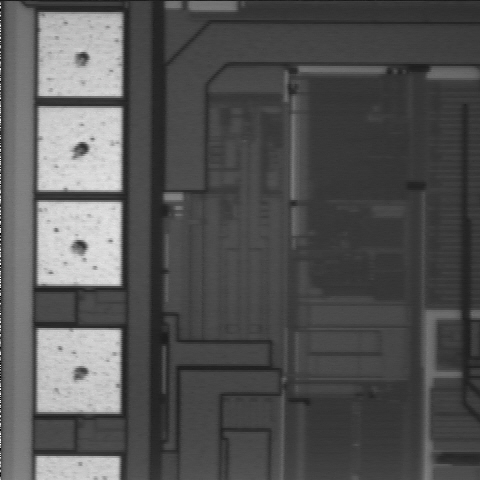pad: (38, 202, 121, 286), (39, 14, 121, 96), (39, 108, 121, 190), (38, 330, 120, 412)
